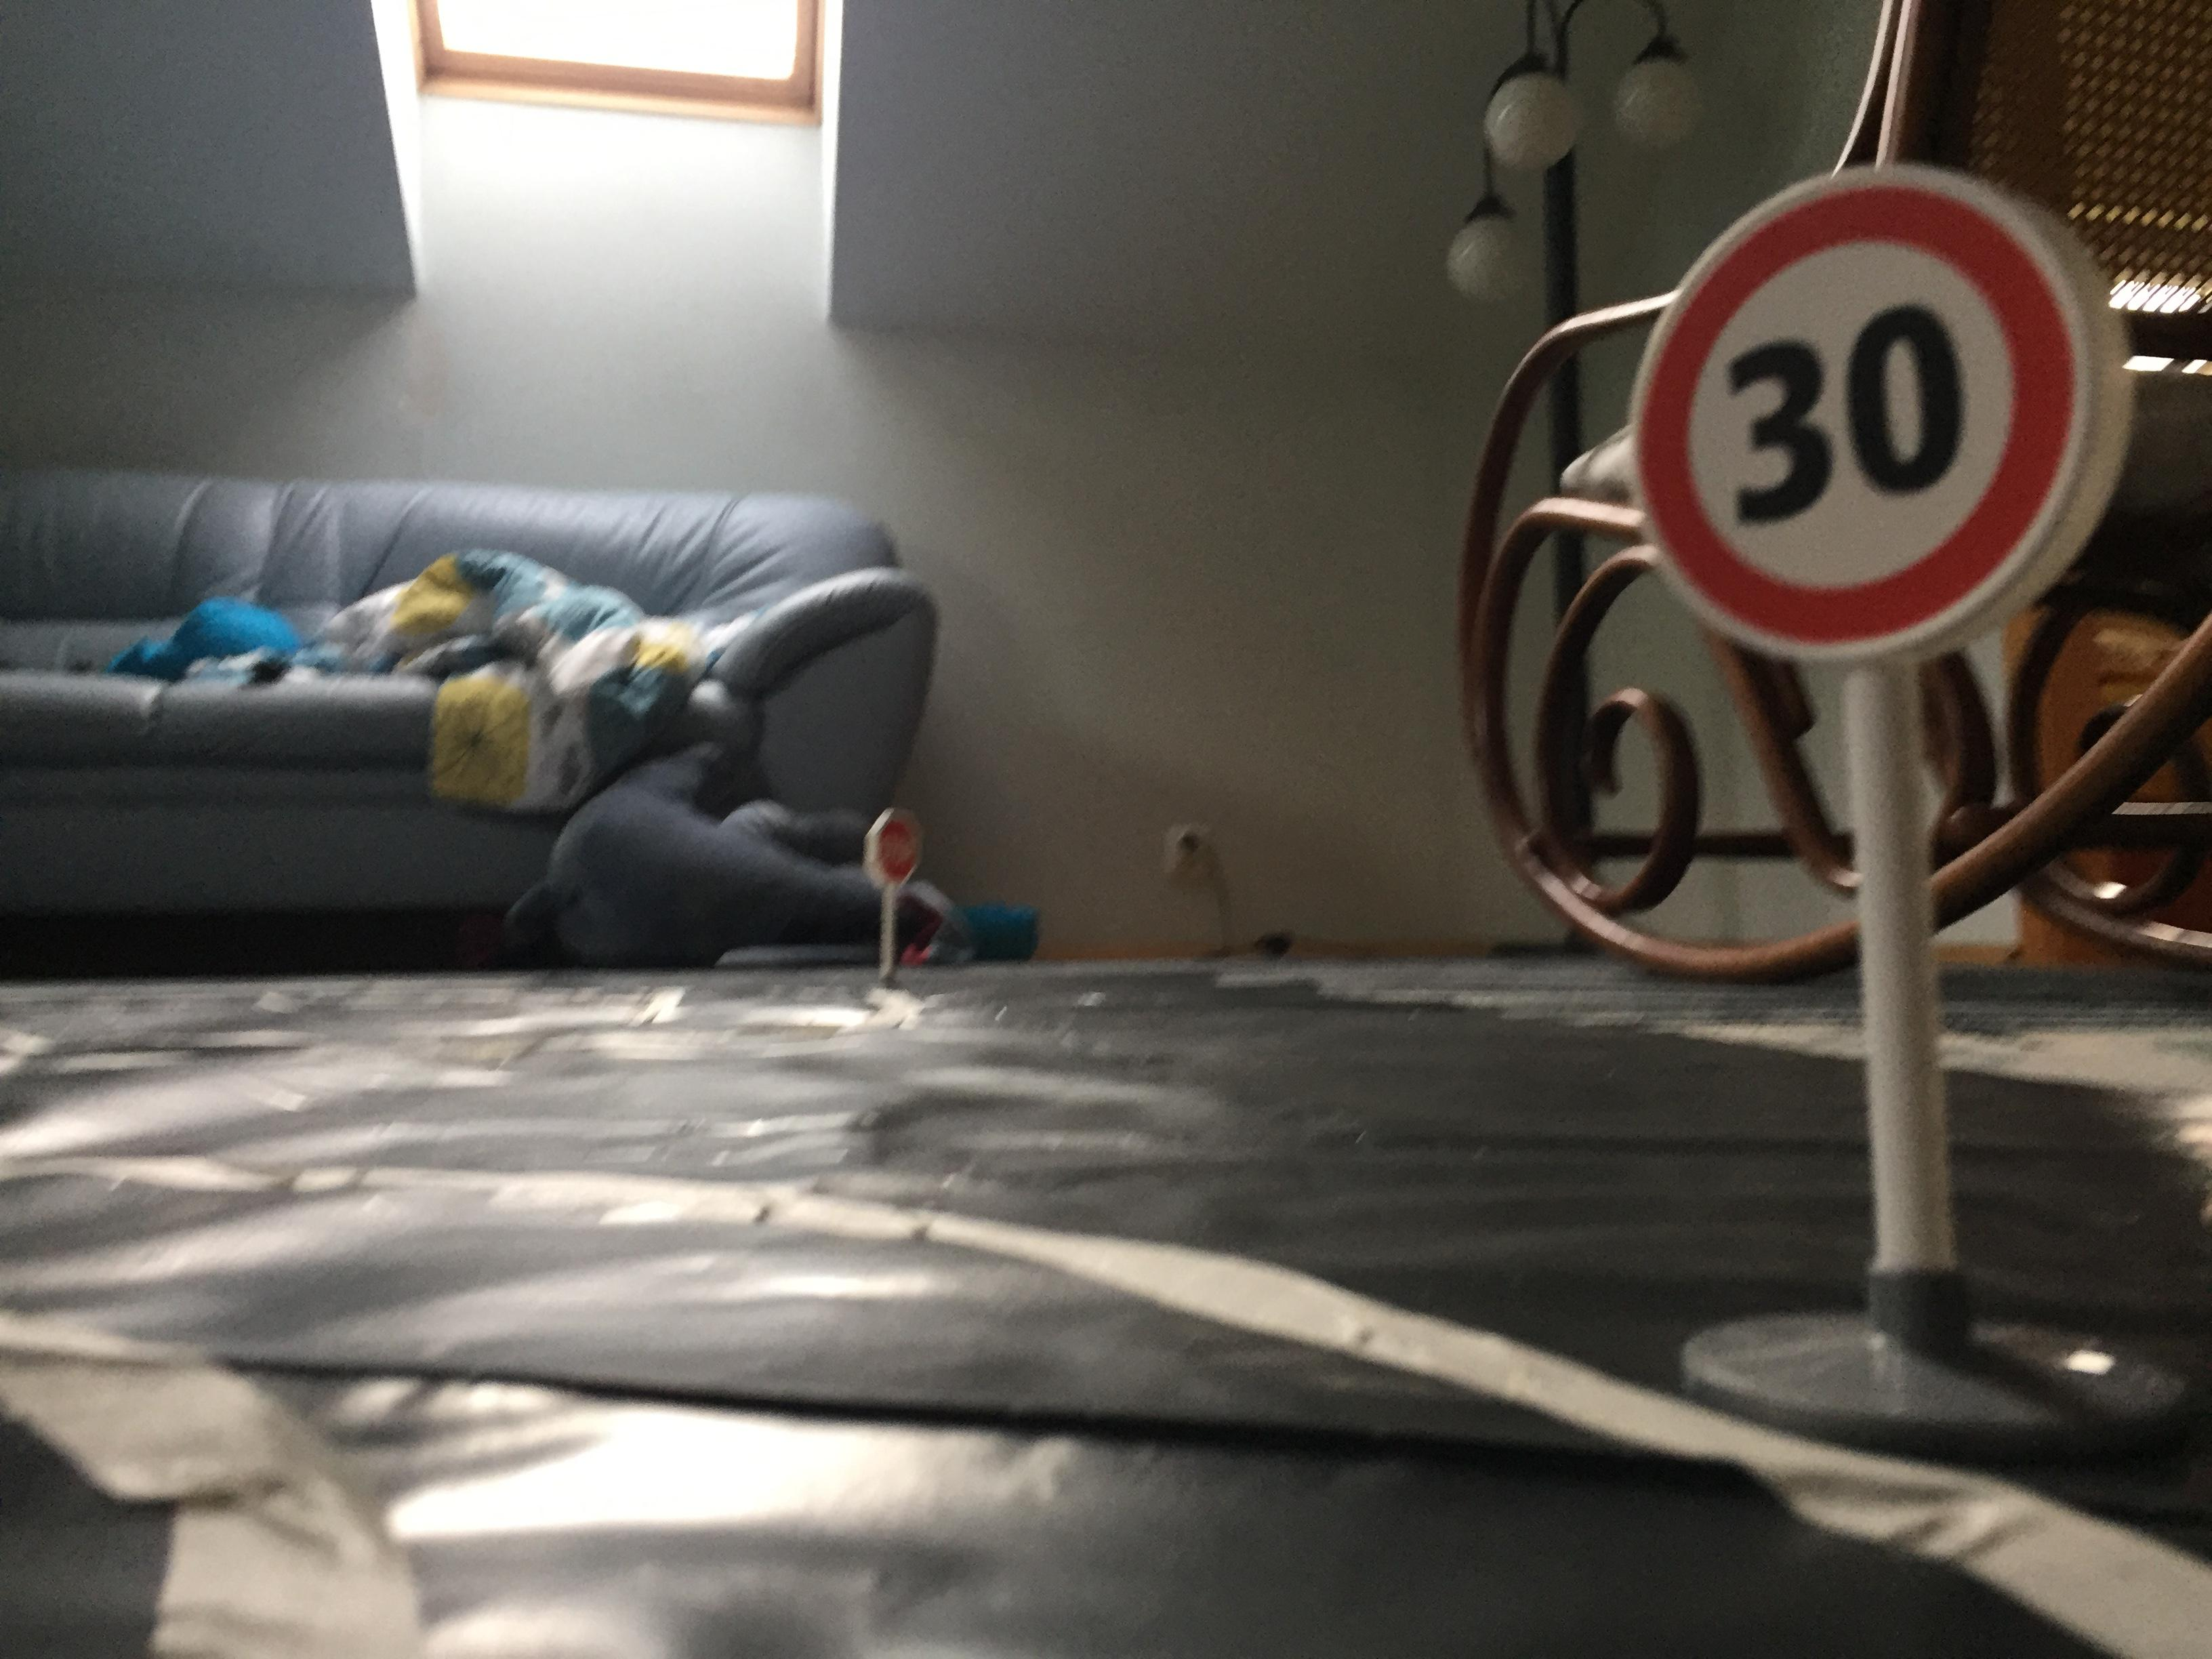speed: (1622, 159, 2139, 683)
